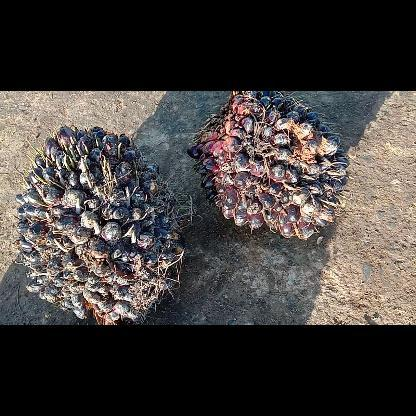TBS mentah: (10, 122, 188, 324), (184, 92, 350, 242)
